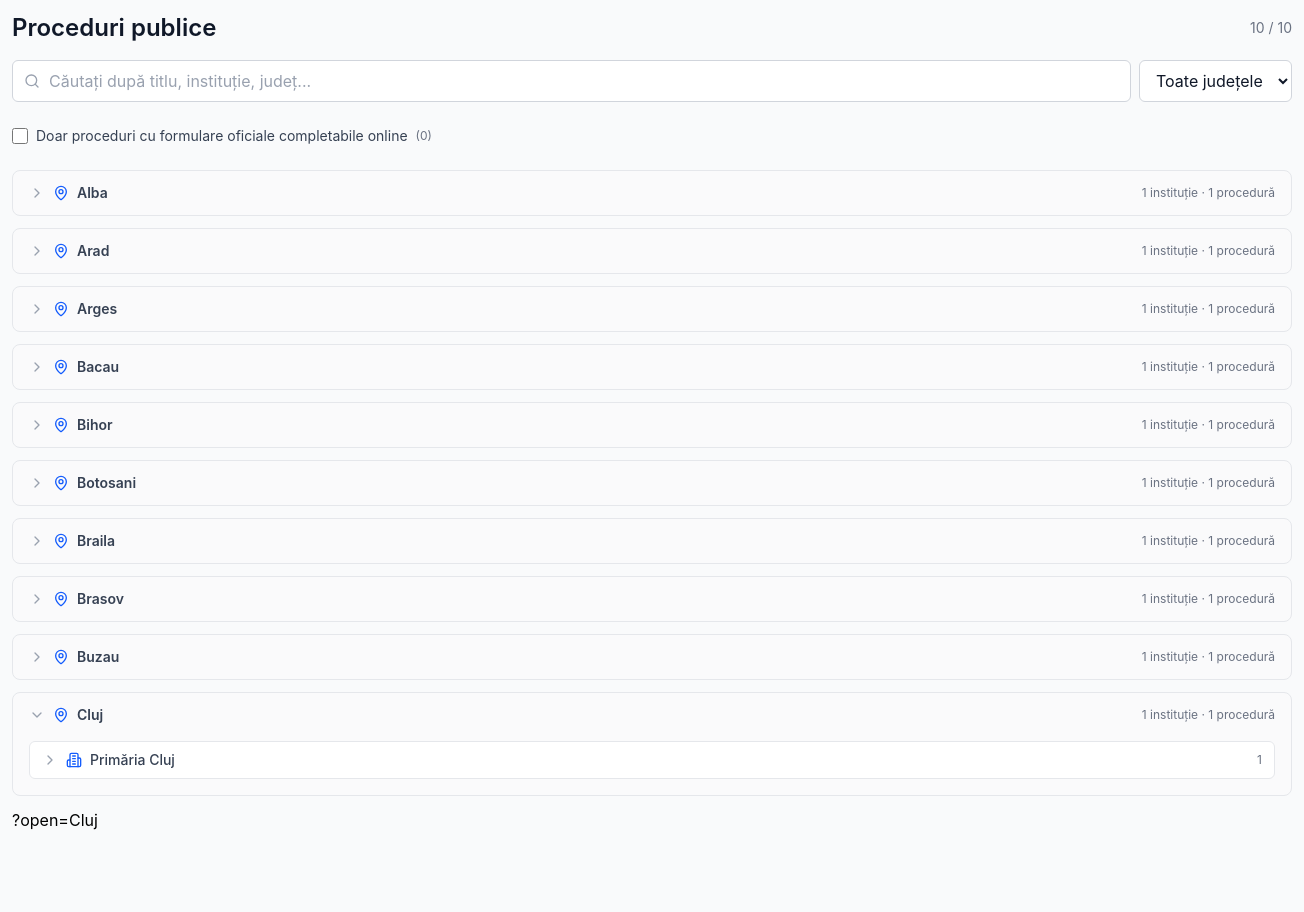
Test: ProceduresIndexPage menu state › records an expanded institution under its county
The width and height of the screenshot is (1304, 912).
Step 1. Click the button "Primăria Cluj 1" → (132, 760), box [30,742,1274,778]
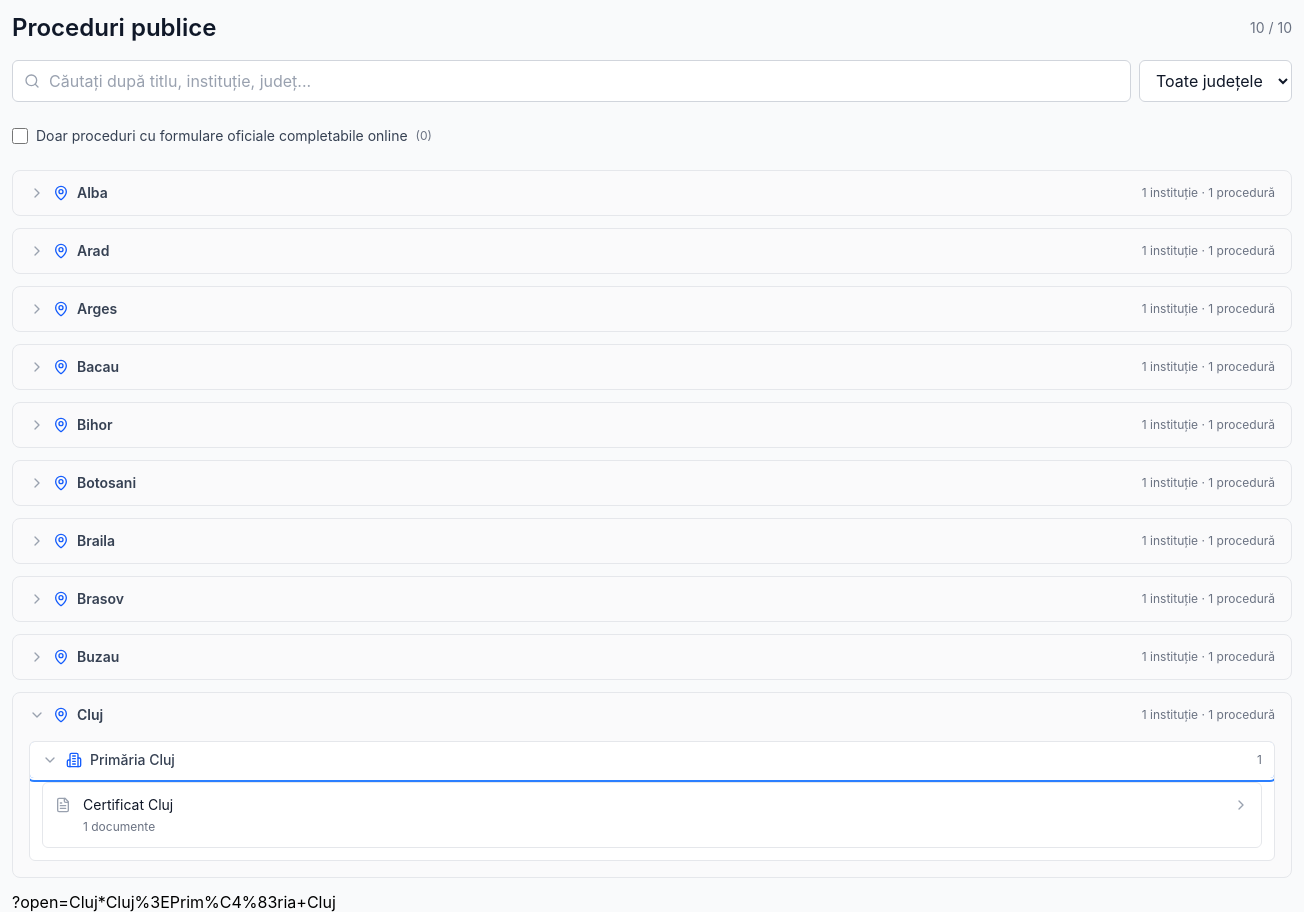
Check: the text with test id "search" shows "open=Cluj*Cluj%3EPrim%C4%83ria+Cluj", box [12,892,336,911]
Check: the link "Certificat Cluj 1 documente" is shown, box [42,782,1262,848]
